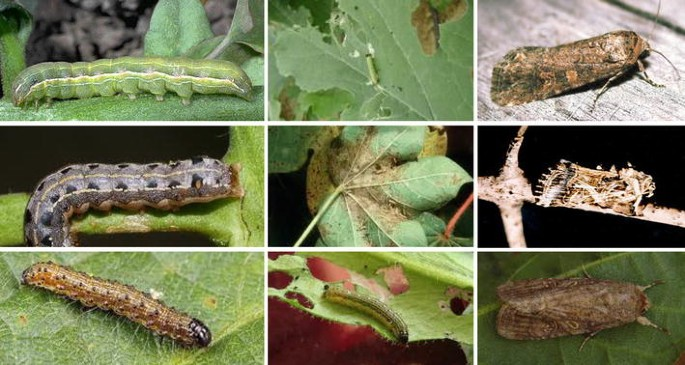Armyworm: (23, 146, 247, 237), (10, 257, 220, 352), (7, 55, 263, 115), (310, 279, 421, 344)
